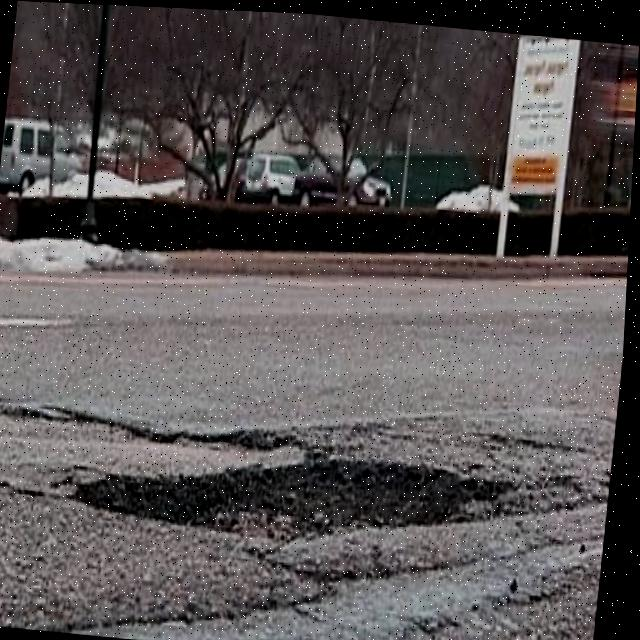Pothole: (76, 430, 502, 554)
